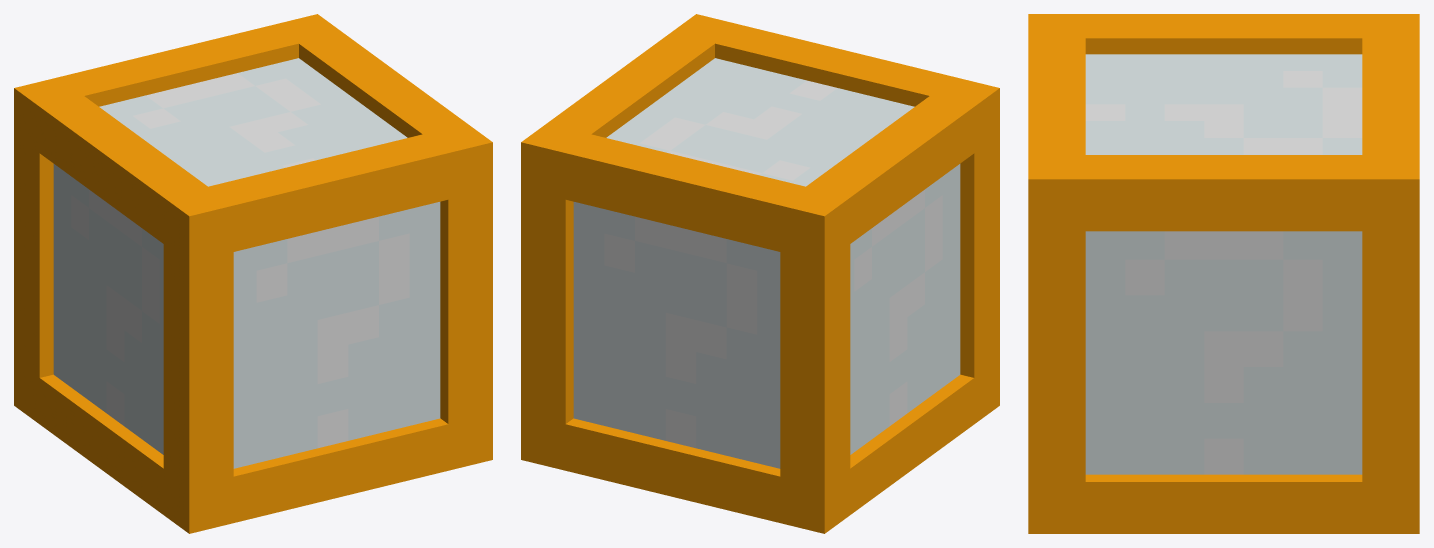
File: LUCKY BLOCK.fbx
3 renders of one model, left to right at view 1: azimuth 30°, elevation 25°; view 2: azimuth 150°, elevation 25°; view 3: azimuth 270°, elevation 25°, orthographic. The views are drawn at different scales.
Parts seen in each view (by area): view 1: Cube; view 2: Cube; view 3: Cube.
Boxes of the visible parts, <box> form: Cube: <box>14,14,492,533</box>; Cube: <box>521,14,999,533</box>; Cube: <box>1028,14,1419,533</box>.
Size of the model in its own units: 220 by 220 by 220.
